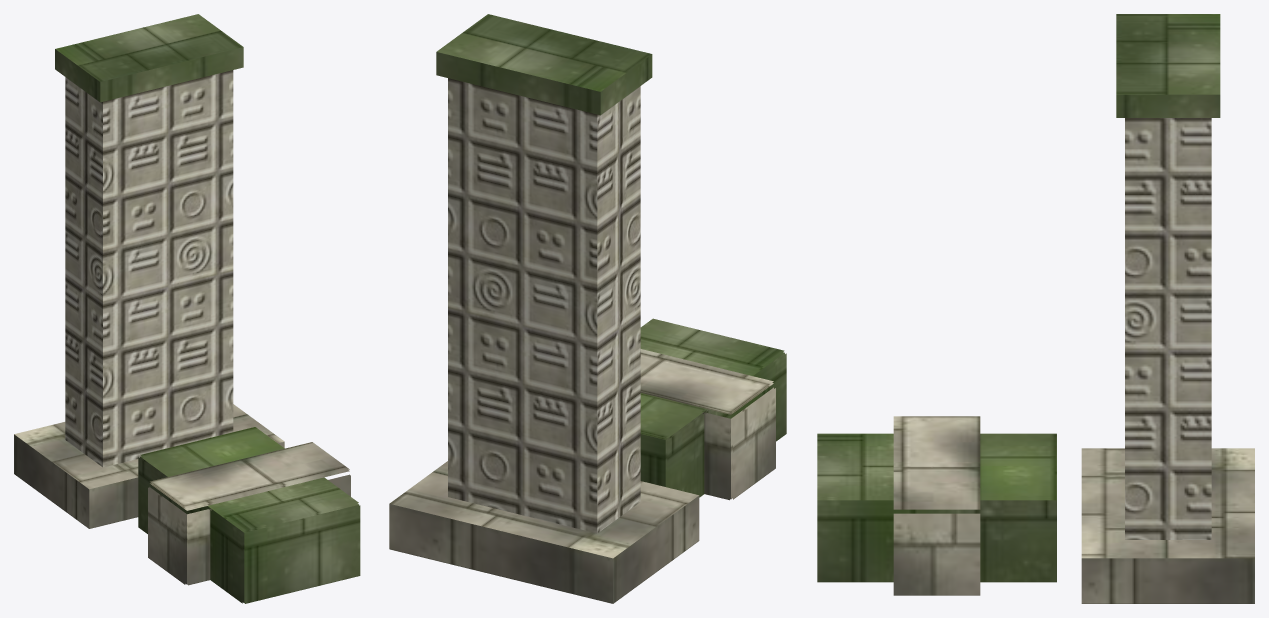
Rendered from ruin-stela.zfix-v10.lod1.glb.
3 renders of one model, left to right at view 1: azimuth 30°, elevation 25°; view 2: azimuth 150°, elevation 25°; view 3: azimuth 270°, elevation 25°, orthographic. The views are drawn at different scales.
Visible parts, largest first — view 1: ruin-stela; view 2: ruin-stela; view 3: ruin-stela.
Part boxes in pixels (x1,y1,x2,y2): ruin-stela: (14, 14, 360, 603); ruin-stela: (389, 14, 786, 603); ruin-stela: (817, 14, 1254, 603).
Bounding box in the file's own units: 1.8 × 3.78 × 3.05.
Materials: 3 (3 with a texture image).
